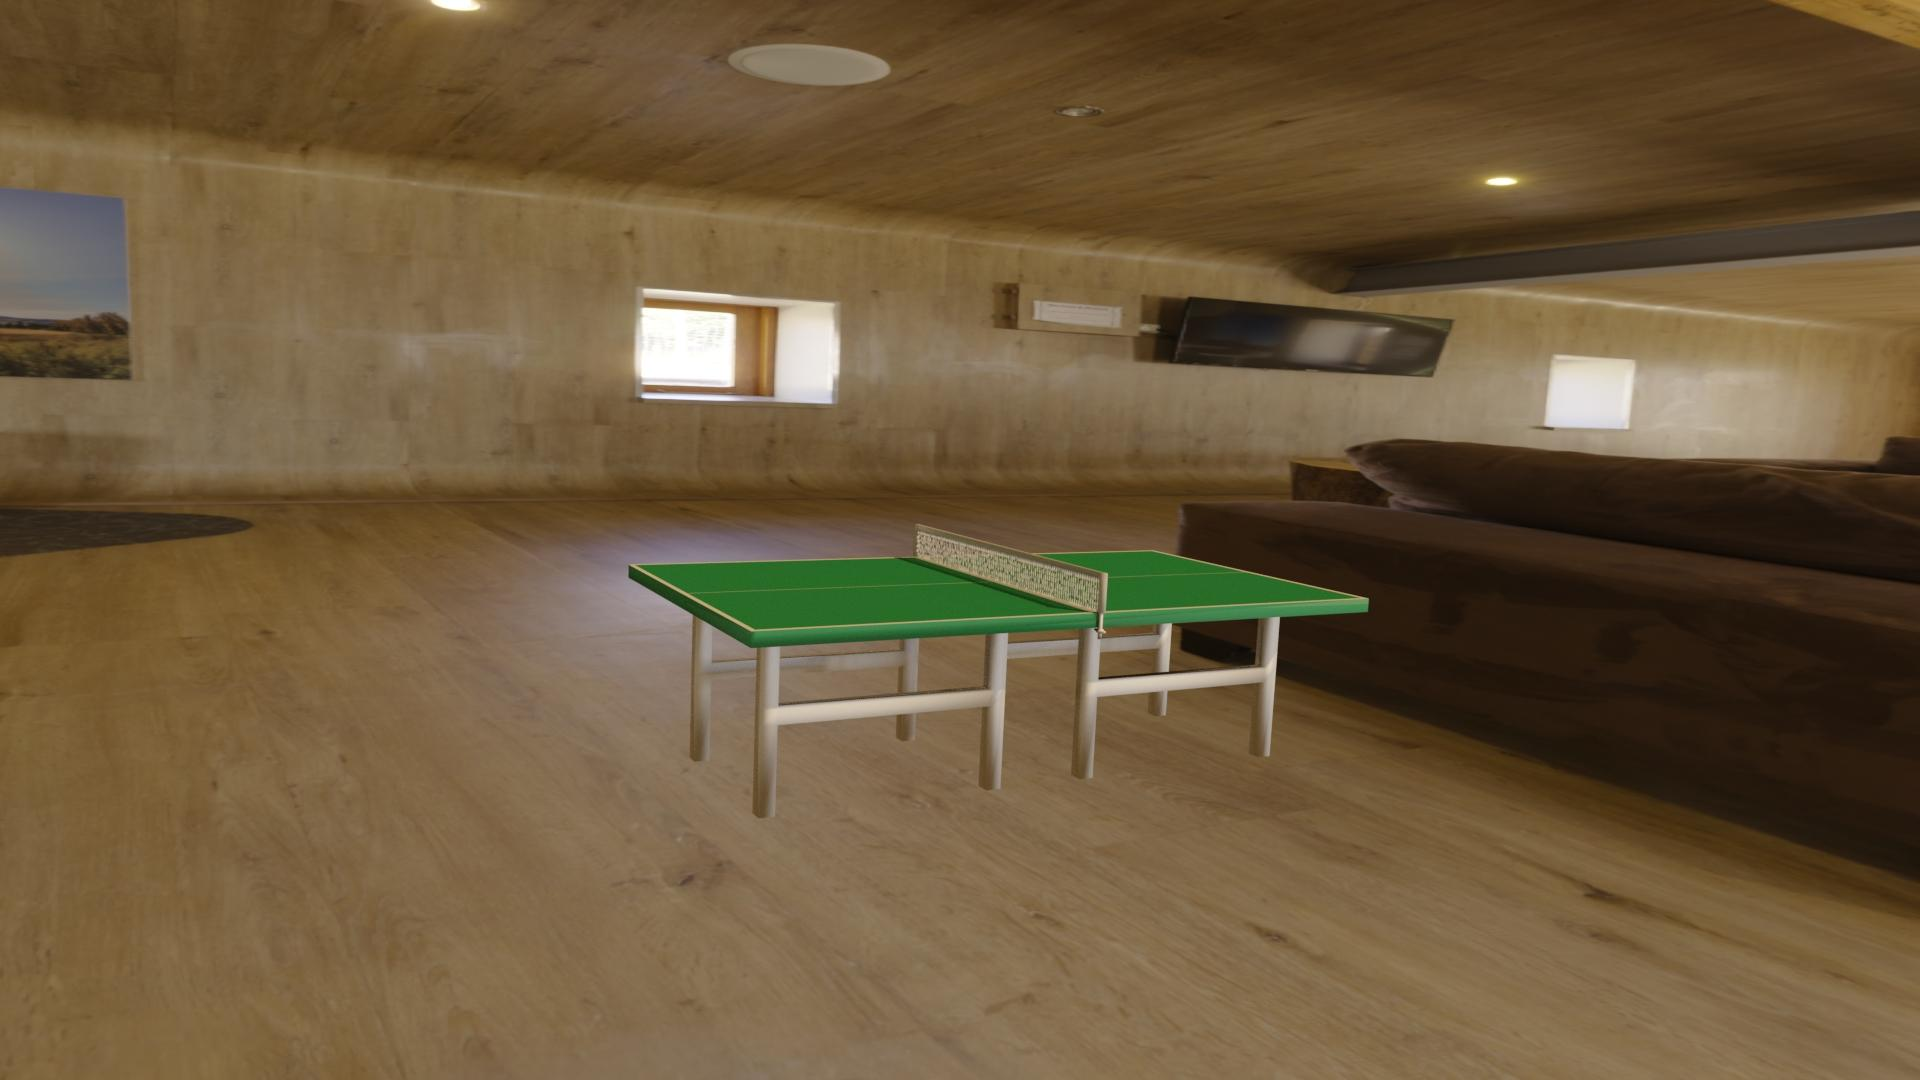table: (634, 551, 1362, 630)
